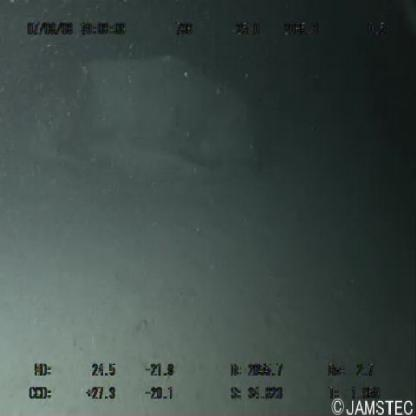Rác: (20, 49, 268, 209)
